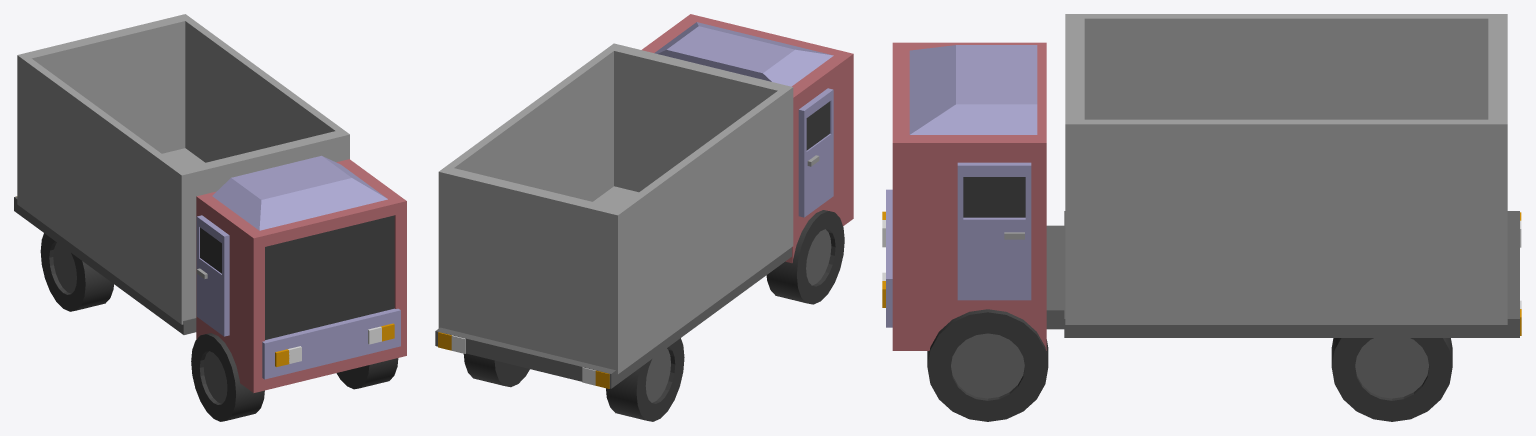
The model's file is Truck.fbx.
3 views of the same model, side by side, from view 1: azimuth 30°, elevation 25°; view 2: azimuth 150°, elevation 25°; view 3: azimuth 270°, elevation 25° (orthographic). The views are drawn at different scales.
Parts seen in each view (by area): view 1: pCube26; view 2: pCube26; view 3: pCube26.
Boxes of the visible parts, <box> form: pCube26: <box>14,14,406,421</box>; pCube26: <box>435,14,853,421</box>; pCube26: <box>882,14,1521,421</box>.
Size of the model in its own units: 12.66 by 15.93 by 30.82.
